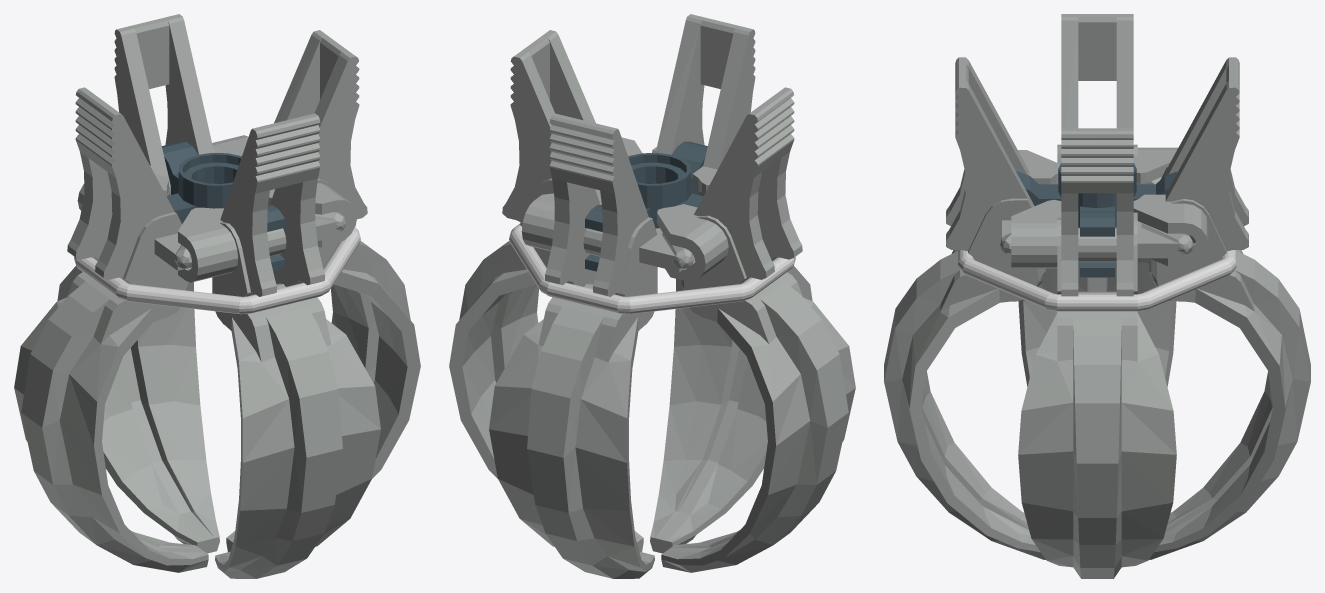
3 views of the same model, side by side, from view 1: azimuth 30°, elevation 25°; view 2: azimuth 150°, elevation 25°; view 3: azimuth 270°, elevation 25° (orthographic).
Visible parts, largest first — view 1: world; view 2: world; view 3: world.
Boxes of the visible parts, x1,y1,x2,y2 form: world: [14, 14, 420, 578]; world: [449, 14, 855, 578]; world: [884, 14, 1310, 578].
Size of the model in its own units: 0.0393 by 0.0492 by 0.0393.
